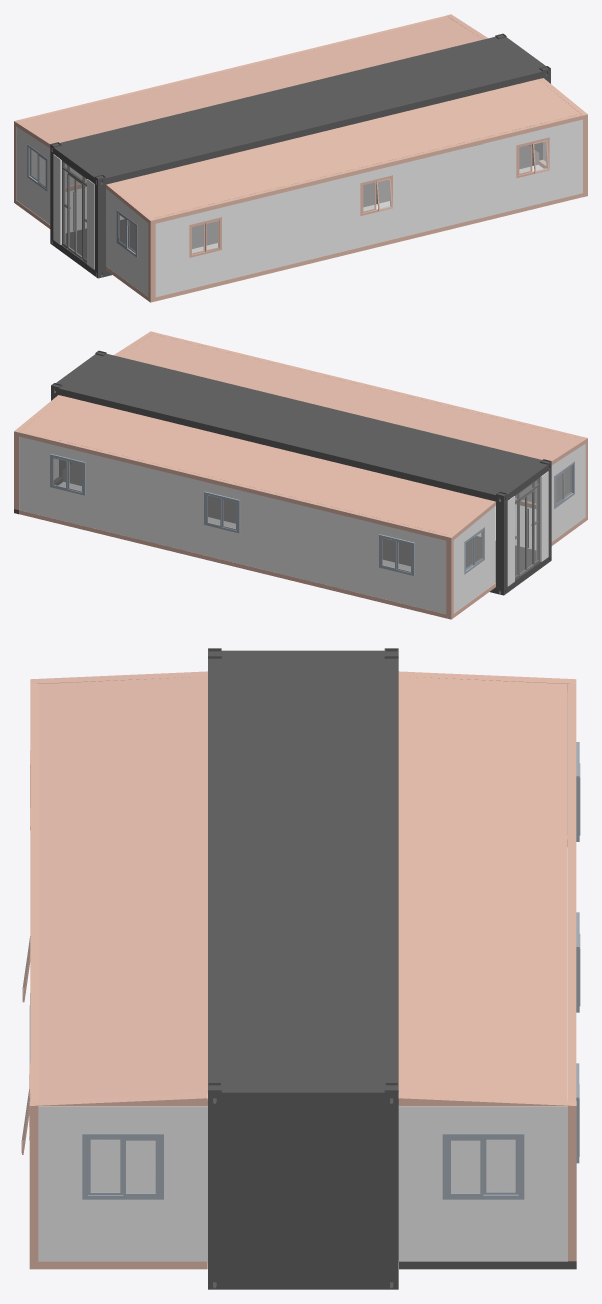
Rendered from ExpansionBox1185314322-baked.glb.
The picture shows the model from 3 angles, top to bottom: view 1: azimuth 30°, elevation 25°; view 2: azimuth 150°, elevation 25°; view 3: azimuth 270°, elevation 25°; orthographic projection. The views are drawn at different scales.
Visible parts, largest first — view 1: Group191, Group122, Group162, Group181, Group204, Group192, Group198, Group123, Group186, Group241, Group189, Group247 (+14 smaller); view 2: Group162, Group122, Group169, Group191, Mesh418, Group163, Group124, Group157, Group247, Group160, Group241, Group123 (+16 smaller); view 3: Group122, Group162, Group191, ipt-www-0-bottom, ipt-www-1-bottom, Group124, Group123, W10_grp, W9_grp, ipt-www-0-top, ipt-www-1-top, Group157 (+20 smaller).
Part boxes in pixels (x1,y1,x2,y2): Group191: (111, 79, 580, 217); Group122: (62, 39, 538, 255); Group162: (22, 17, 482, 142); Group181: (255, 144, 482, 272); Group204: (155, 199, 255, 297); Group192: (326, 157, 426, 255); Group198: (483, 119, 582, 217); Group123: (104, 69, 542, 184); Group186: (154, 114, 582, 223); Group241: (106, 189, 148, 296); Group189: (155, 193, 582, 301); Group247: (16, 127, 50, 224); Group162: (21, 396, 490, 534); Group122: (63, 356, 539, 582); Group169: (117, 460, 348, 590); Group191: (119, 334, 579, 459); Mesh418: (19, 436, 117, 533); Group163: (348, 517, 446, 613); Group124: (58, 386, 497, 501); Group157: (19, 431, 447, 540); Group247: (453, 506, 495, 613); Group160: (19, 510, 446, 618); Group241: (551, 444, 585, 541); Group123: (103, 354, 541, 462); Group122: (221, 658, 384, 1276); Group162: (398, 676, 567, 1100); Group191: (39, 676, 207, 1100); ipt-www-0-bottom: (38, 1199, 207, 1261); ipt-www-1-bottom: (398, 1199, 567, 1261); Group124: (384, 658, 398, 1098); Group123: (208, 658, 221, 1098); W10_grp: (442, 1133, 524, 1199); W9_grp: (82, 1133, 163, 1199); ipt-www-0-top: (38, 1106, 207, 1133); ipt-www-1-top: (398, 1106, 567, 1133); Group157: (567, 684, 576, 1100).
Bounding box in the file's own units: 11.82 × 2.48 × 6.3.
Materials: 151 (23 with a texture image).
